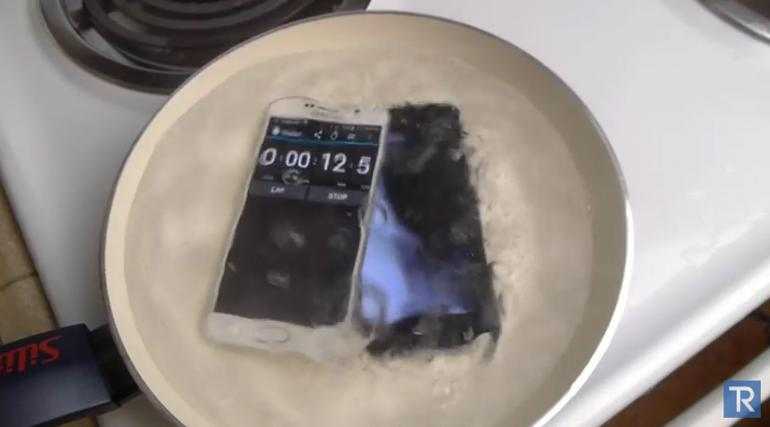Phone: (201, 92, 391, 367)
